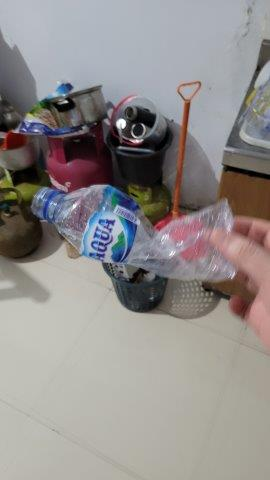botolplastik: (21, 183, 240, 281)
